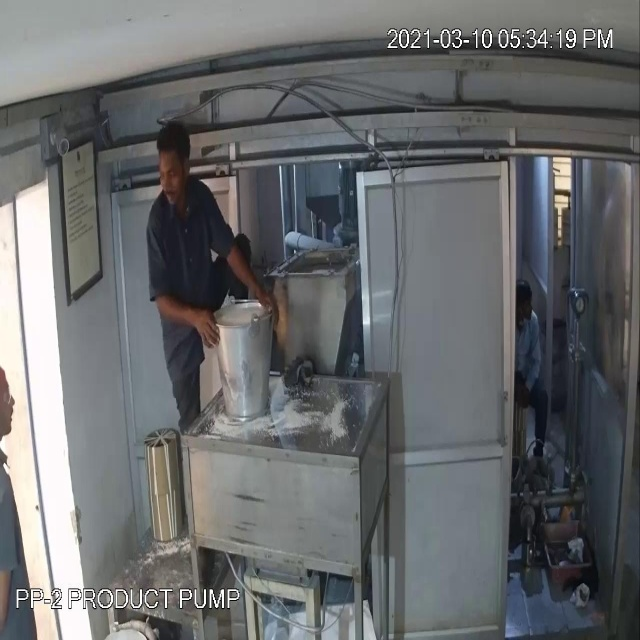Sin_guantes: (147, 273, 228, 366), (216, 218, 279, 334)
